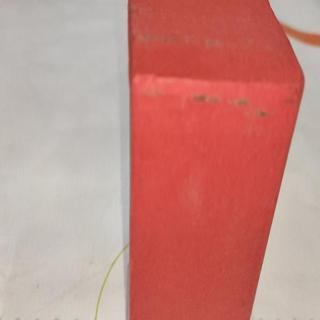redbox: (127, 0, 305, 320)
